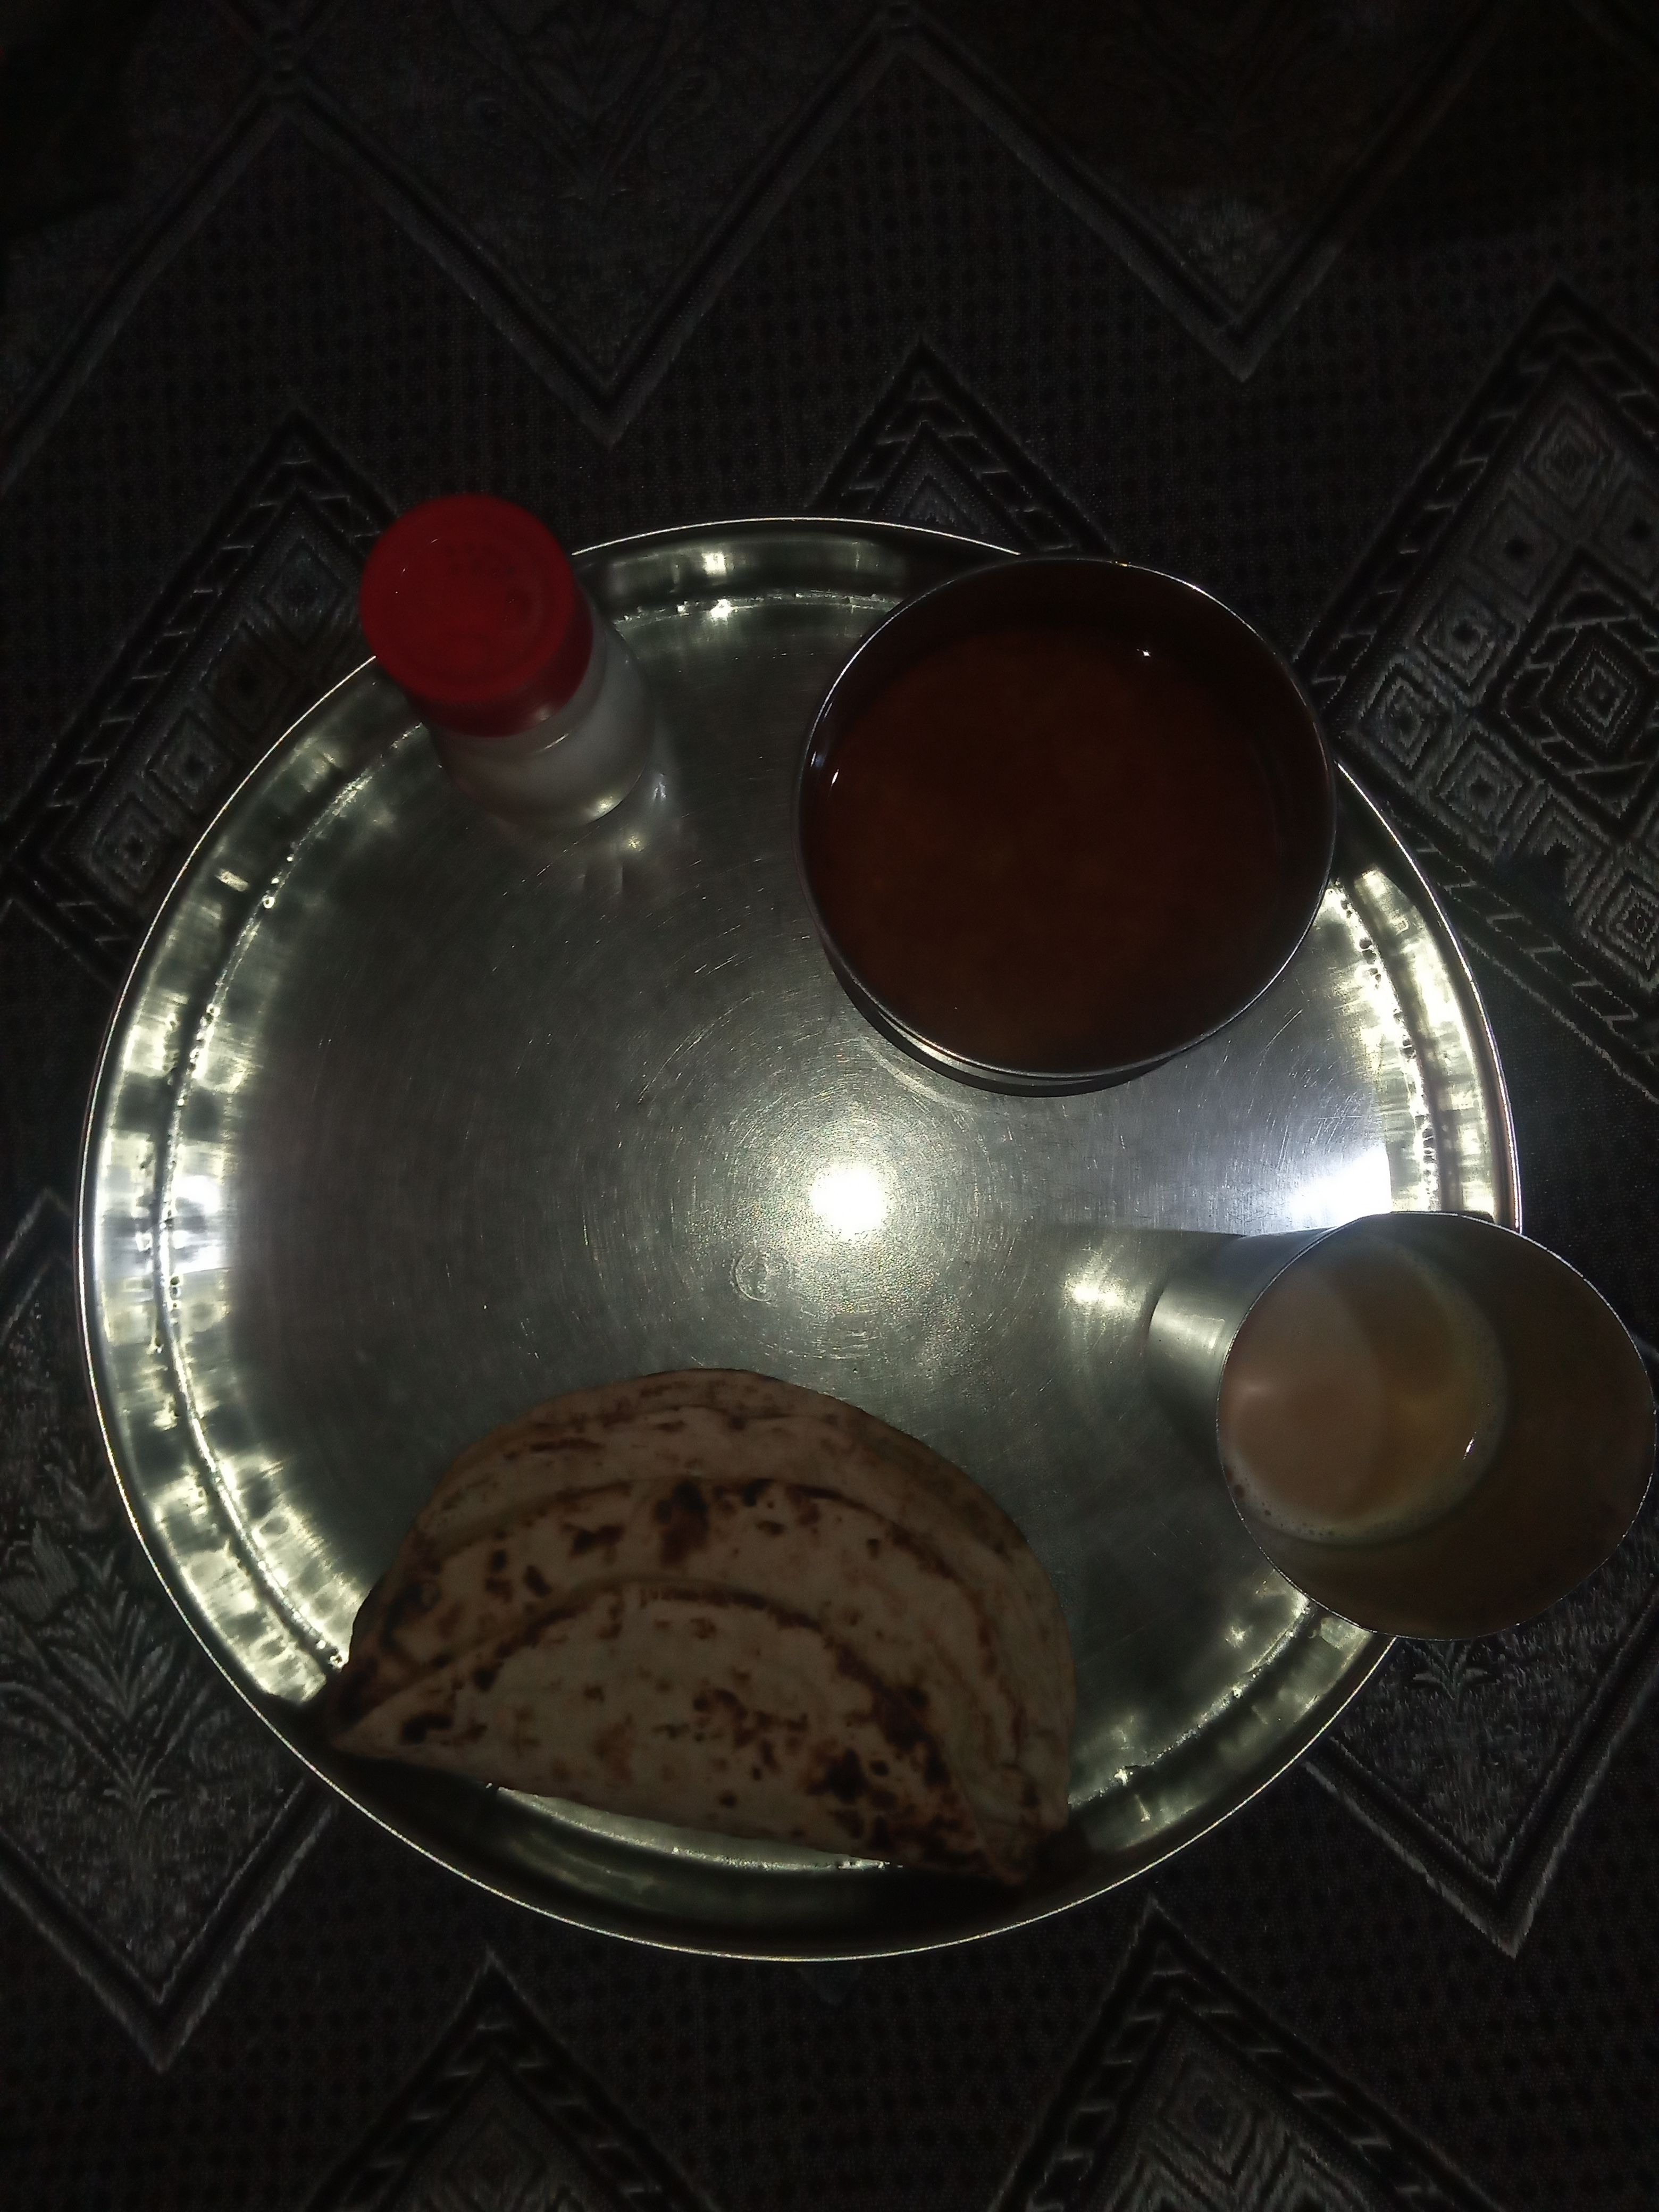food: (307, 488, 1645, 1904)
